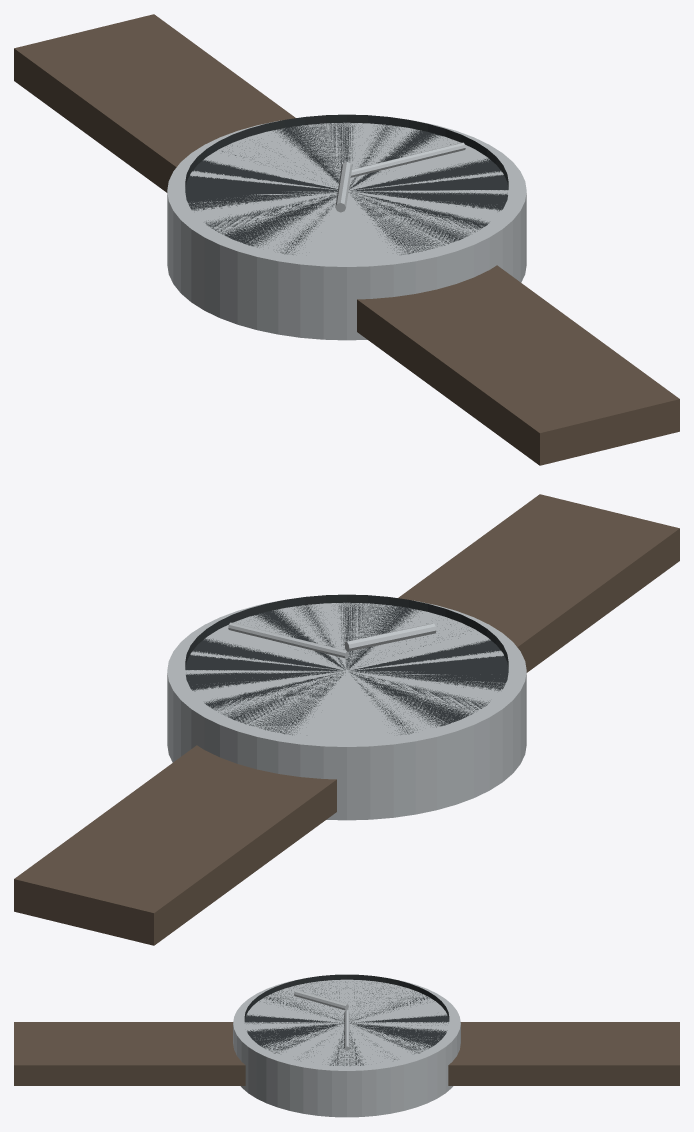
Rendered from P037-blockout-v1.glb.
3 renders of one model, top to bottom at view 1: azimuth 30°, elevation 25°; view 2: azimuth 150°, elevation 25°; view 3: azimuth 270°, elevation 25°, orthographic. The views are drawn at different scales.
Parts seen in each view (by area): view 1: 皮錶帶 (×2), 錶殼, 錶面, 分針; view 2: 皮錶帶 (×2), 錶殼, 錶面, 分針, 時針; view 3: 皮錶帶 (×2), 錶殼, 錶面, 時針.
Boxes of the visible parts, x1=… form: 皮錶帶 (×2): x1=14, y1=14, x2=679, y2=465; 錶殼: x1=167, y1=120, x2=526, y2=340; 錶面: x1=185, y1=114, x2=508, y2=254; 分針: x1=350, y1=142, x2=465, y2=177; 皮錶帶 (×2): x1=14, y1=494, x2=679, y2=945; 錶殼: x1=167, y1=600, x2=526, y2=820; 錶面: x1=185, y1=594, x2=508, y2=735; 分針: x1=228, y1=622, x2=348, y2=658; 時針: x1=344, y1=623, x2=436, y2=651; 皮錶帶 (×2): x1=14, y1=1022, x2=679, y2=1085; 錶殼: x1=233, y1=978, x2=460, y2=1117; 錶面: x1=244, y1=974, x2=449, y2=1065; 時針: x1=294, y1=990, x2=348, y2=1010.
Bounding box in the file's own units: 0.04 × 0.0126 × 0.117.
